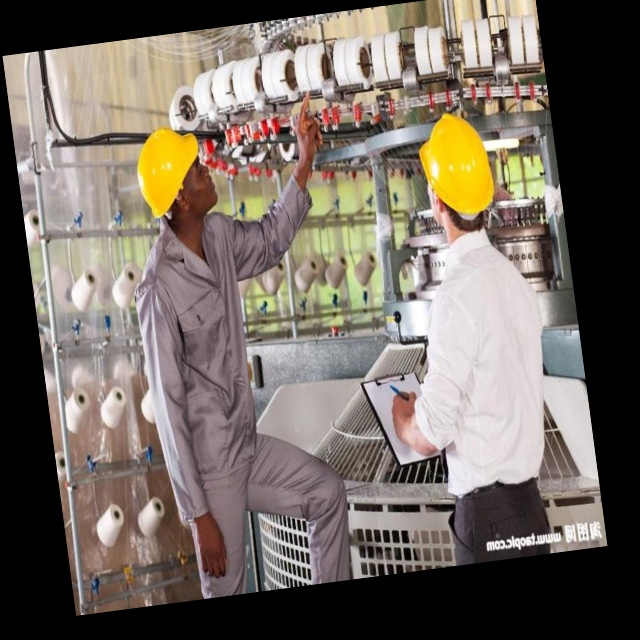Con_Casco: (413, 110, 501, 234)
Sin_Chaleco: (405, 227, 562, 498)
